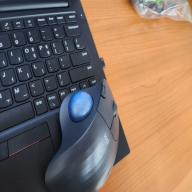mouse: (44, 77, 120, 192)
